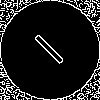I: (25, 25, 67, 67)
